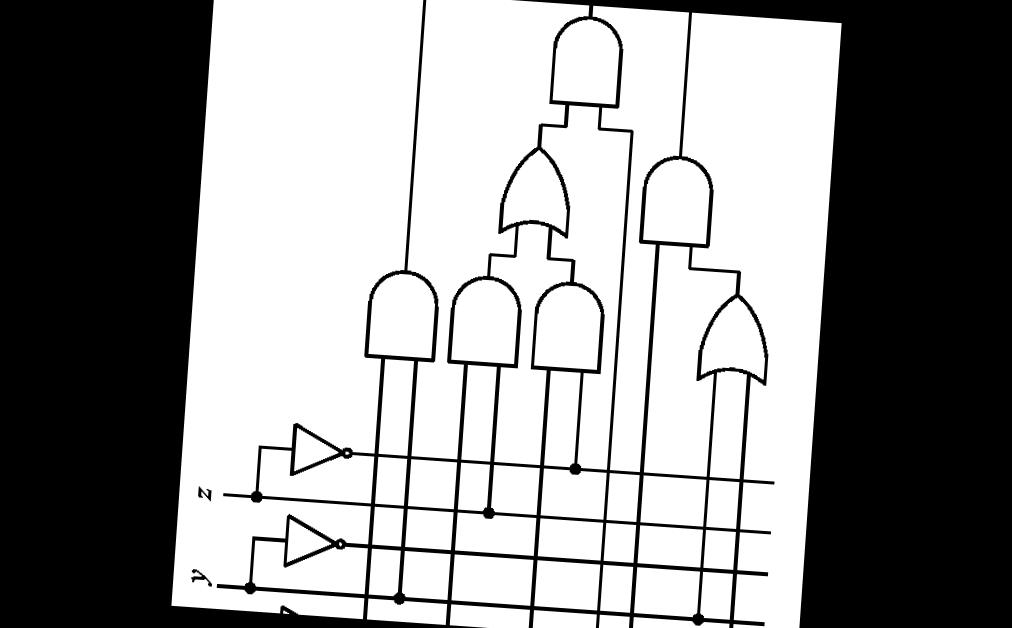and: (357, 259, 446, 367), (632, 146, 720, 252), (441, 267, 529, 372), (524, 272, 612, 376), (543, 7, 629, 113)
not: (283, 416, 360, 484), (276, 509, 352, 574), (274, 598, 345, 618)
or: (490, 138, 580, 242), (689, 285, 778, 390)
